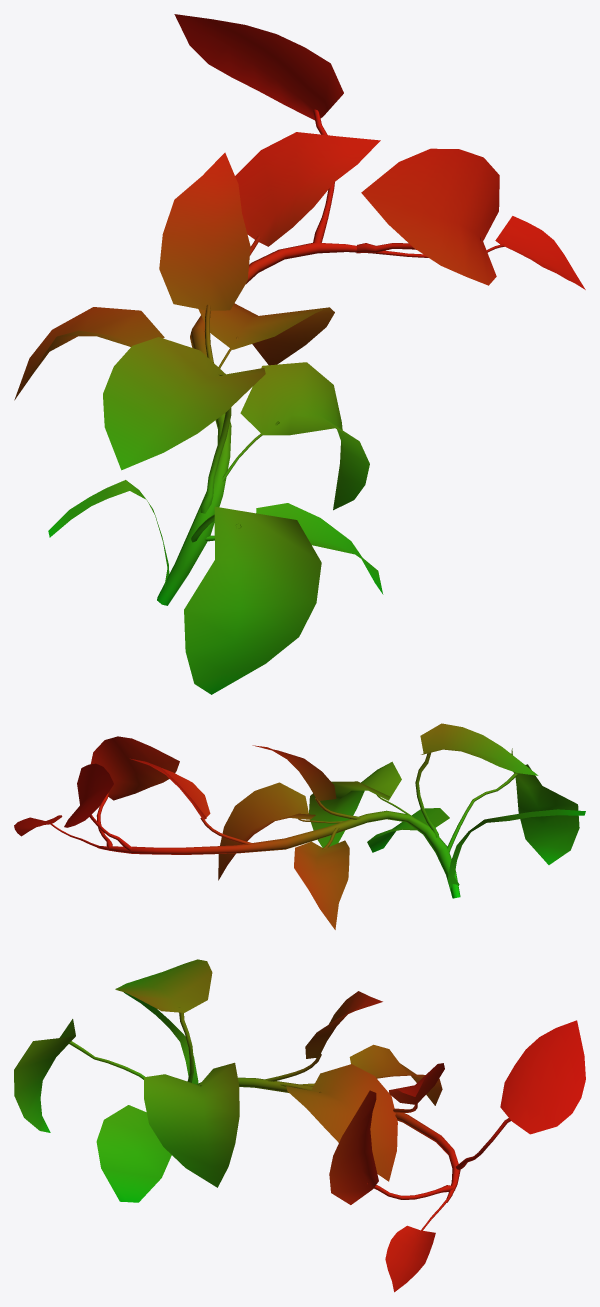
Rendered from Money Plant_LOD0_Var5_uchmfdyia.fbx.
3 views of the same model, one above another, from view 1: azimuth 30°, elevation 25°; view 2: azimuth 150°, elevation 25°; view 3: azimuth 270°, elevation 25° (orthographic). The views are drawn at different scales.
Parts seen in each view (by area): view 1: _7ed7_Var5_LOD0; view 2: _7ed7_Var5_LOD0; view 3: _7ed7_Var5_LOD0.
Part boxes in pixels (x1,y1,x2,y2): _7ed7_Var5_LOD0: [14, 14, 585, 694]; _7ed7_Var5_LOD0: [14, 723, 585, 929]; _7ed7_Var5_LOD0: [14, 959, 585, 1292].
Size of the model in its own units: 24.36 by 10.36 by 23.49.
